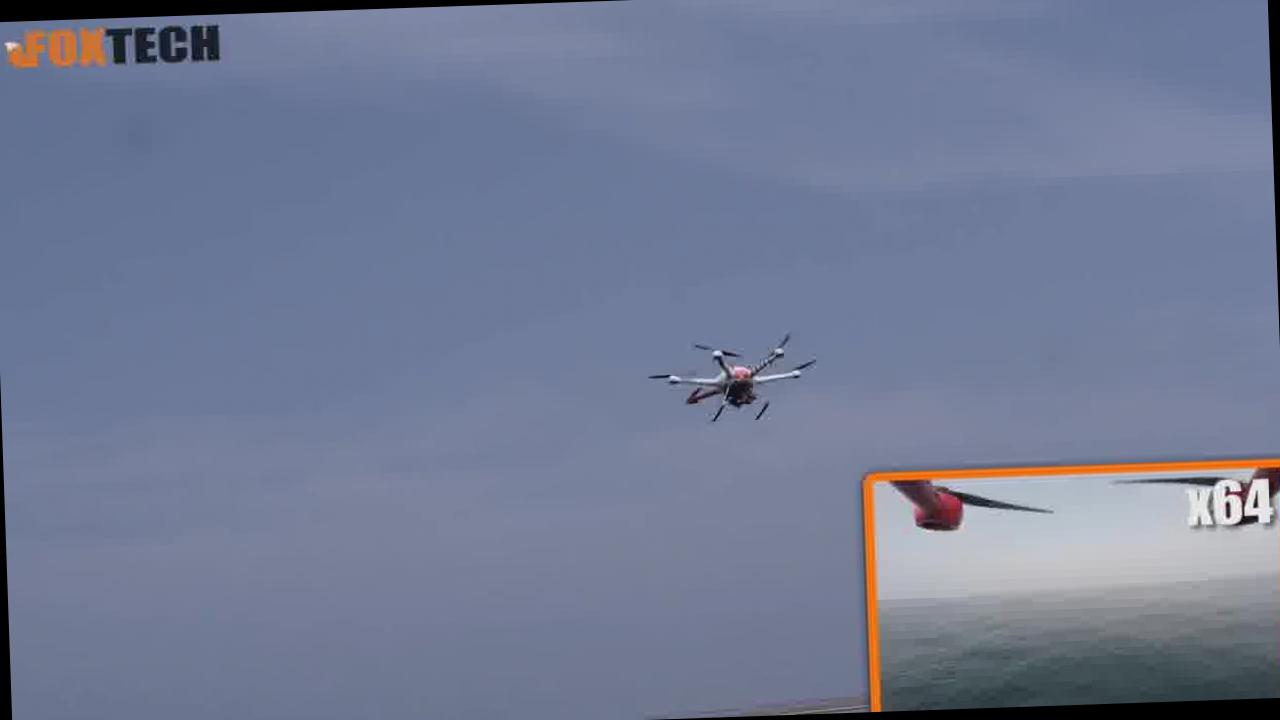drone: (646, 324, 822, 436)
